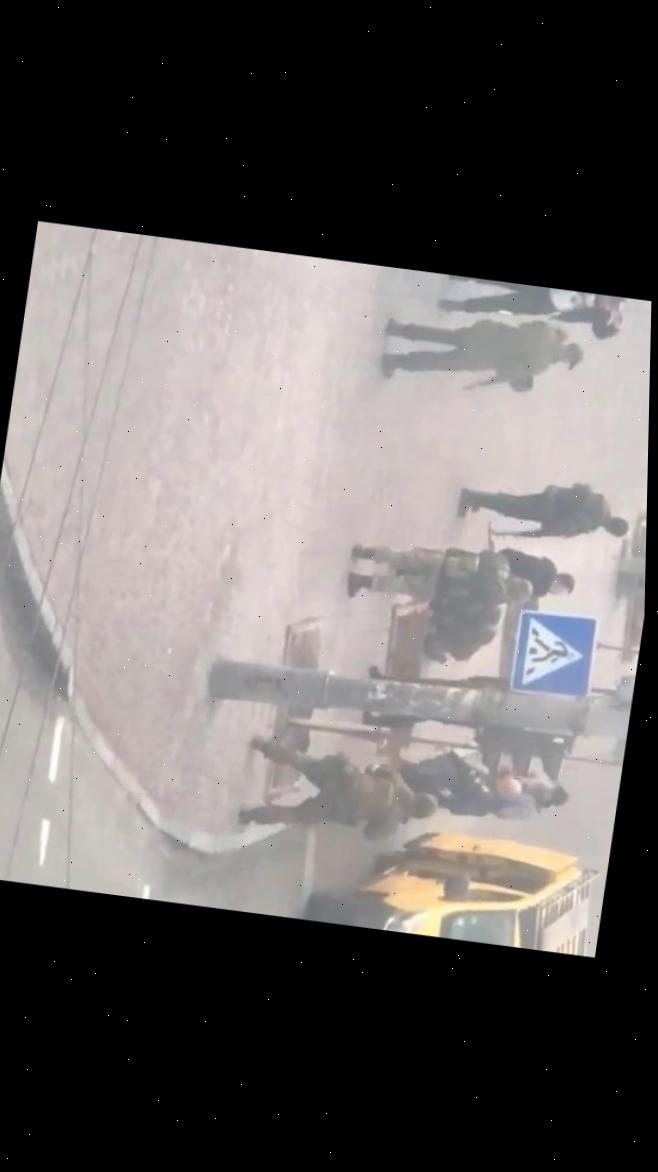person: (236, 730, 445, 850), (377, 299, 589, 404), (343, 531, 537, 622), (451, 466, 635, 553), (435, 272, 628, 342)
